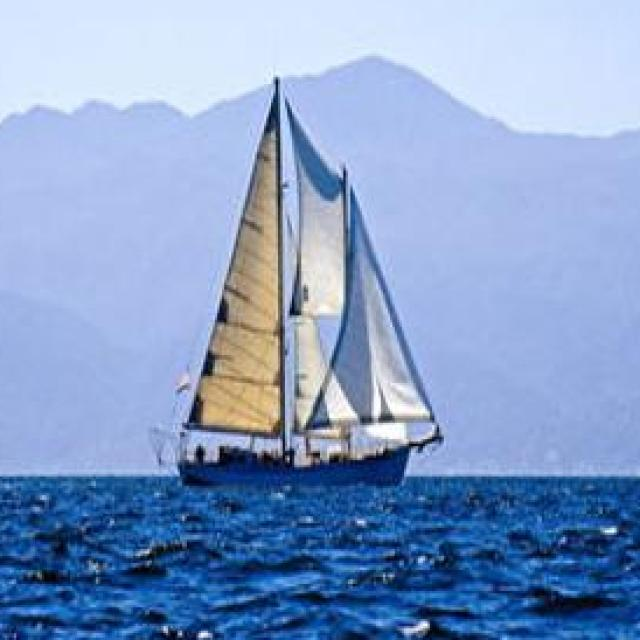sailboat: (164, 70, 437, 487)
